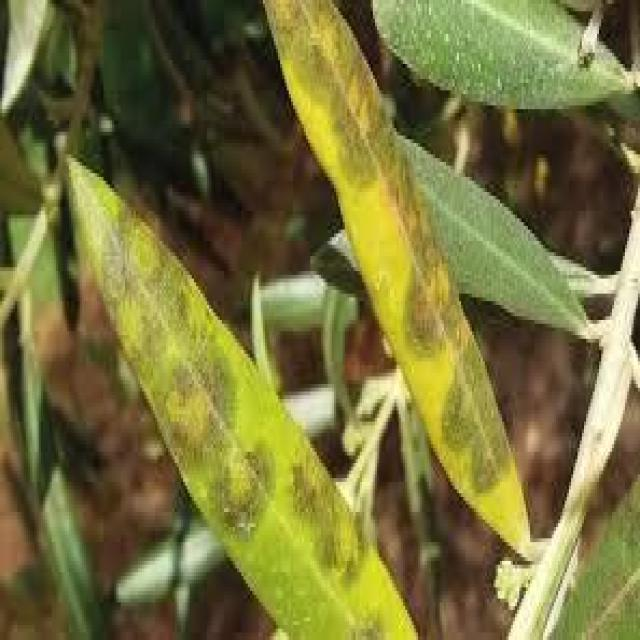Peacock Eye: (67, 158, 416, 636), (263, 0, 528, 538)
